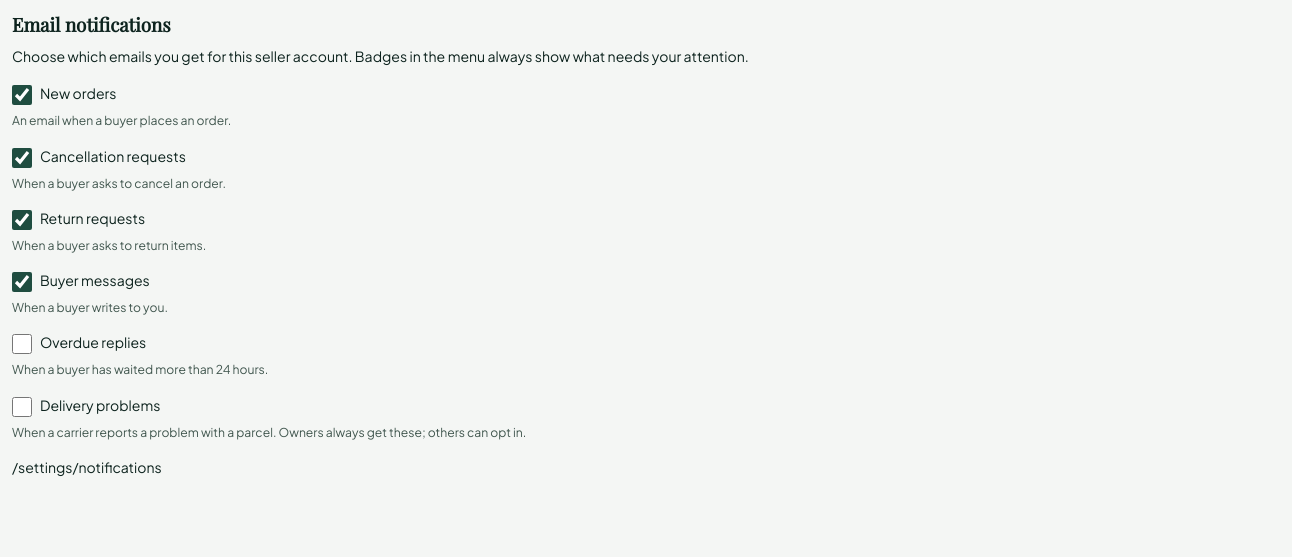
Test: sidebar badges and notification settings › notification preferences load, save on change and roll back with a message if saving fails
Expected: the switch labelled "Overdue replies" is not checked, [12,334,32,354]
Click the switch labelled "Buyer messages": click(22, 282) [12,272,32,292]
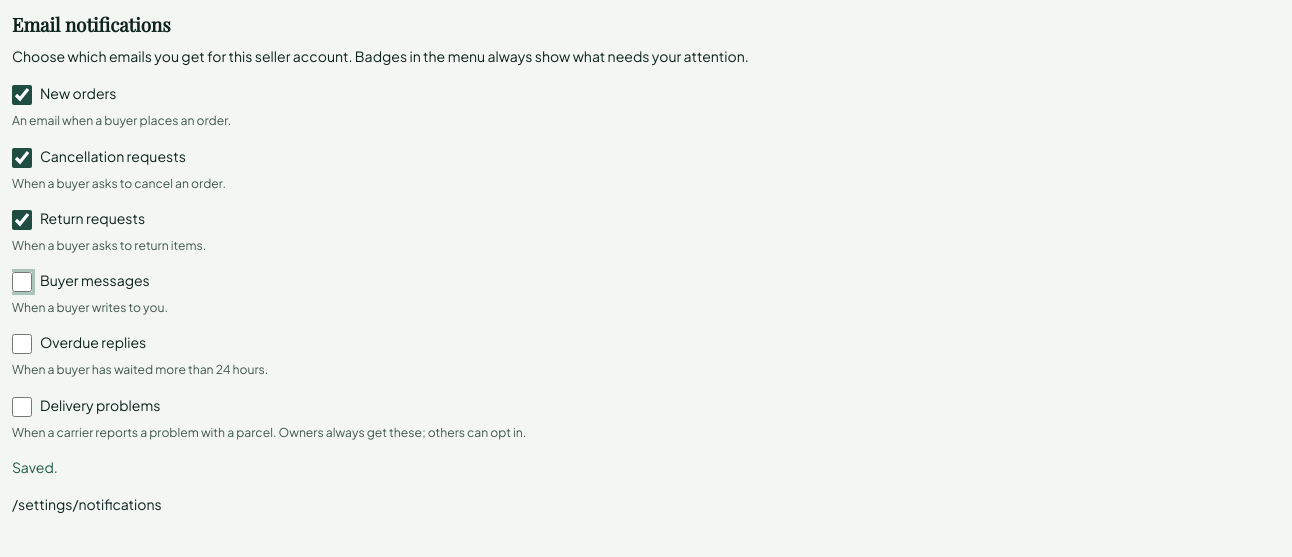
Now the text "Saved." is shown, box [12,458,58,476]
Click the switch labelled "New orders": click(22, 95) [12,85,32,105]
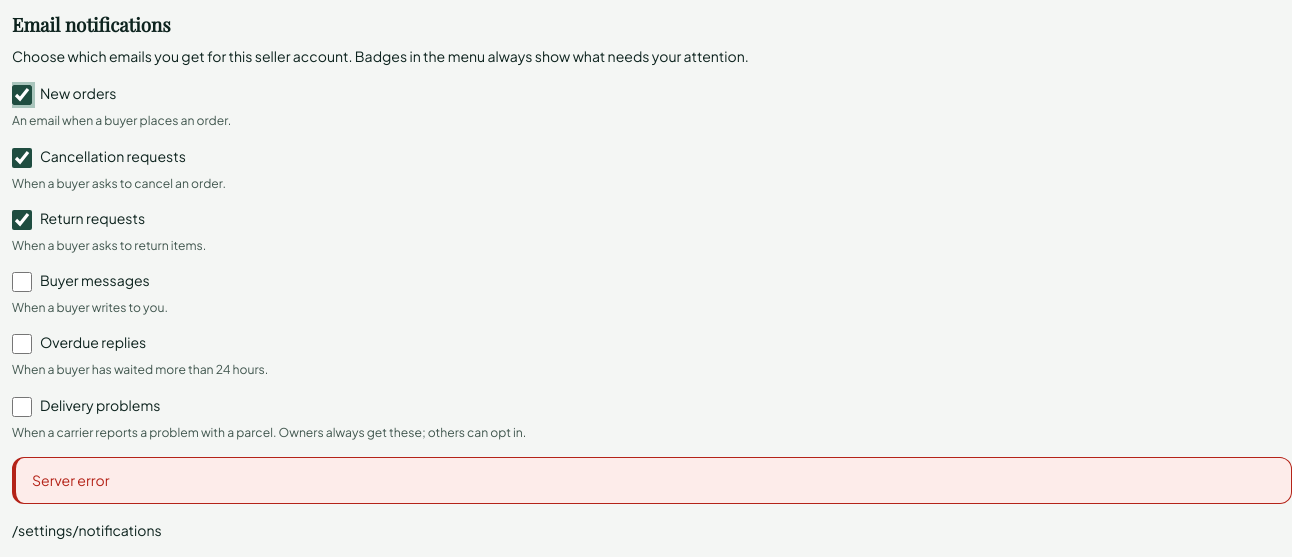
Now the text "Server error" is shown, box [12,457,1291,504]
